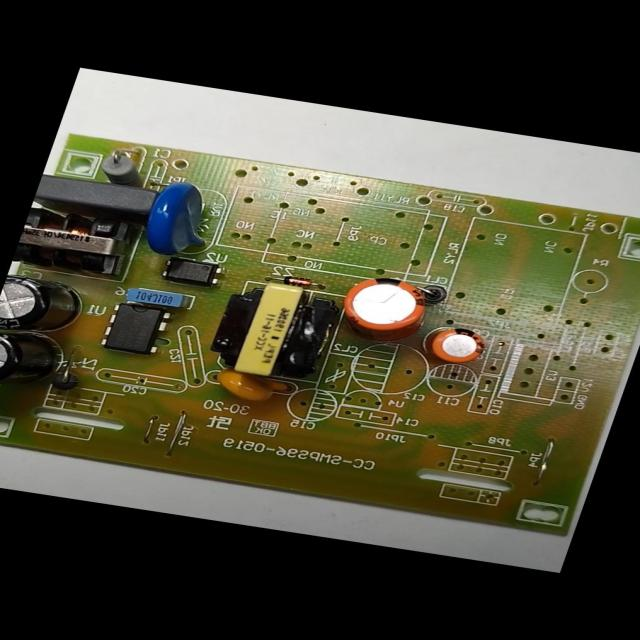Cap1: (332, 271, 438, 343)
Cap2: (422, 322, 490, 367)
Cap3: (0, 273, 91, 343)
Cap4: (0, 330, 69, 397)
MOSFET: (94, 298, 172, 357)
Mov: (134, 177, 228, 263)
Resistor: (92, 149, 158, 188)
Transformer: (203, 276, 343, 384), (12, 204, 136, 276)
